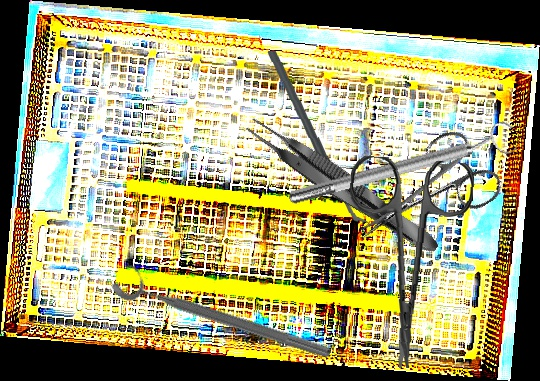Chopper: (266, 46, 370, 229)
Fixation Ring: (108, 258, 339, 366), (284, 118, 520, 215)
Iris Scissors: (337, 154, 476, 373), (337, 121, 508, 272)
Tissue Forceps: (240, 110, 445, 263)
